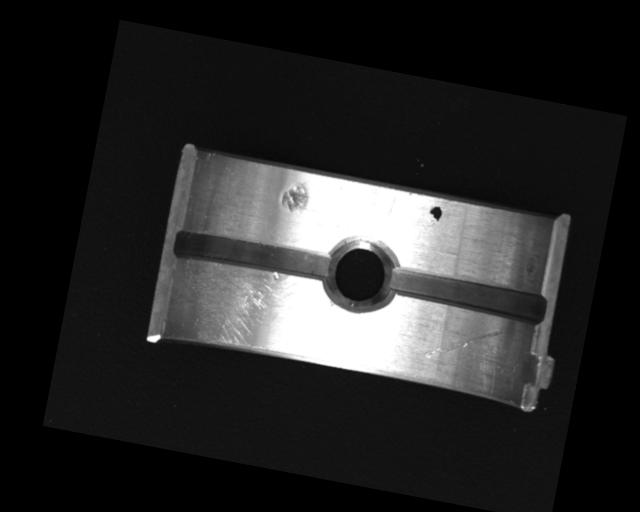blot: (426, 203, 443, 226)
bruise: (278, 176, 311, 216)
gap: (170, 224, 337, 289), (389, 265, 549, 325)
hole: (321, 230, 403, 317)
nick: (423, 317, 504, 373)
scratch: (171, 254, 328, 362)
